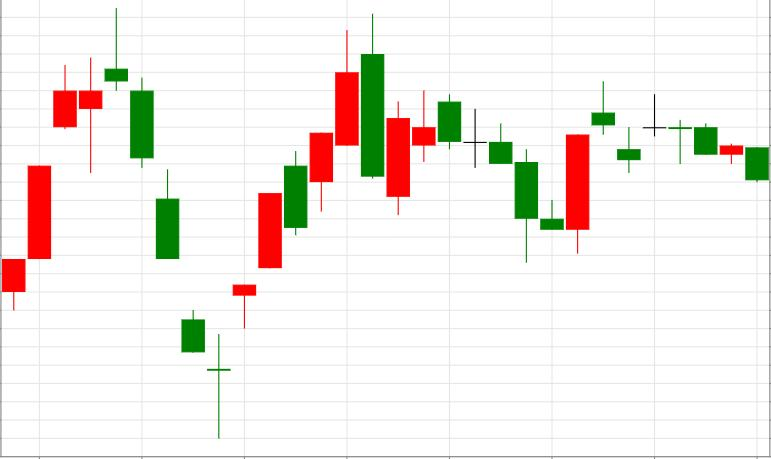bearish_engulfing_fall: (208, 15, 384, 437)
bullish_engulfing_rise: (438, 92, 590, 262)
